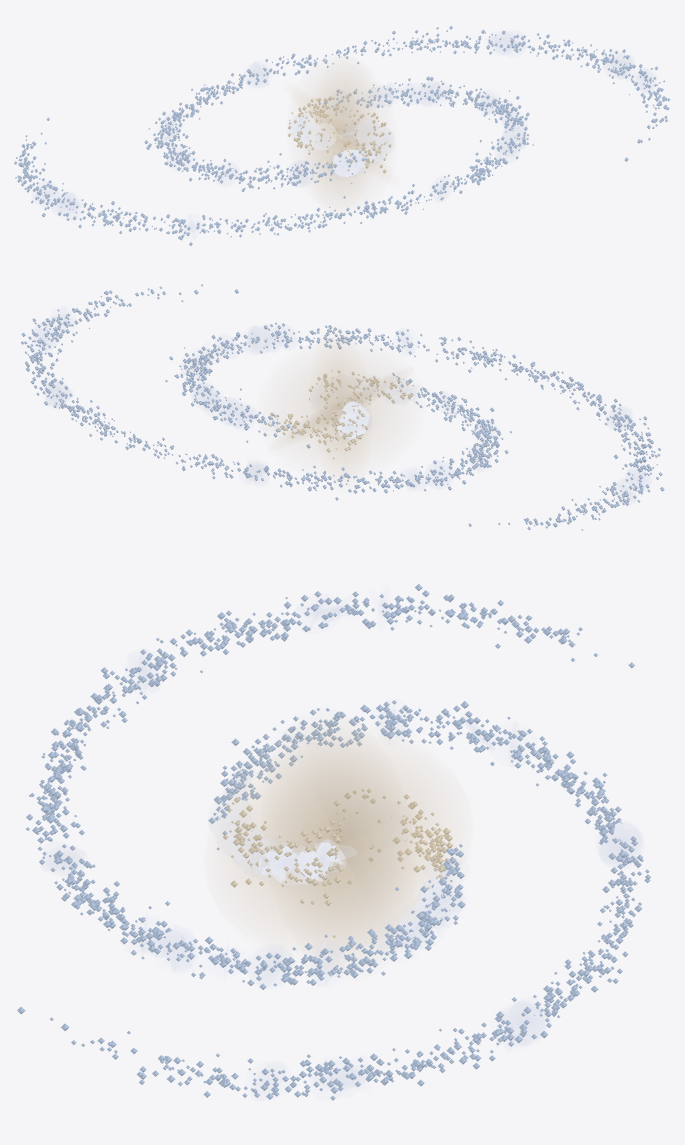
3 renders of one model, top to bottom at view 1: azimuth 30°, elevation 25°; view 2: azimuth 150°, elevation 25°; view 3: azimuth 270°, elevation 25°, orthographic. The views are drawn at different scales.
Size of the model in its own units: 7.29 by 1.78 by 3.93.
